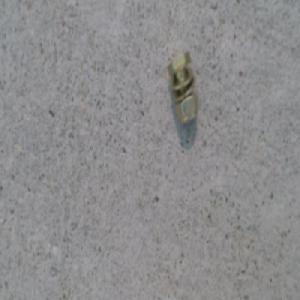BoltNutSet: (165, 50, 195, 126)
